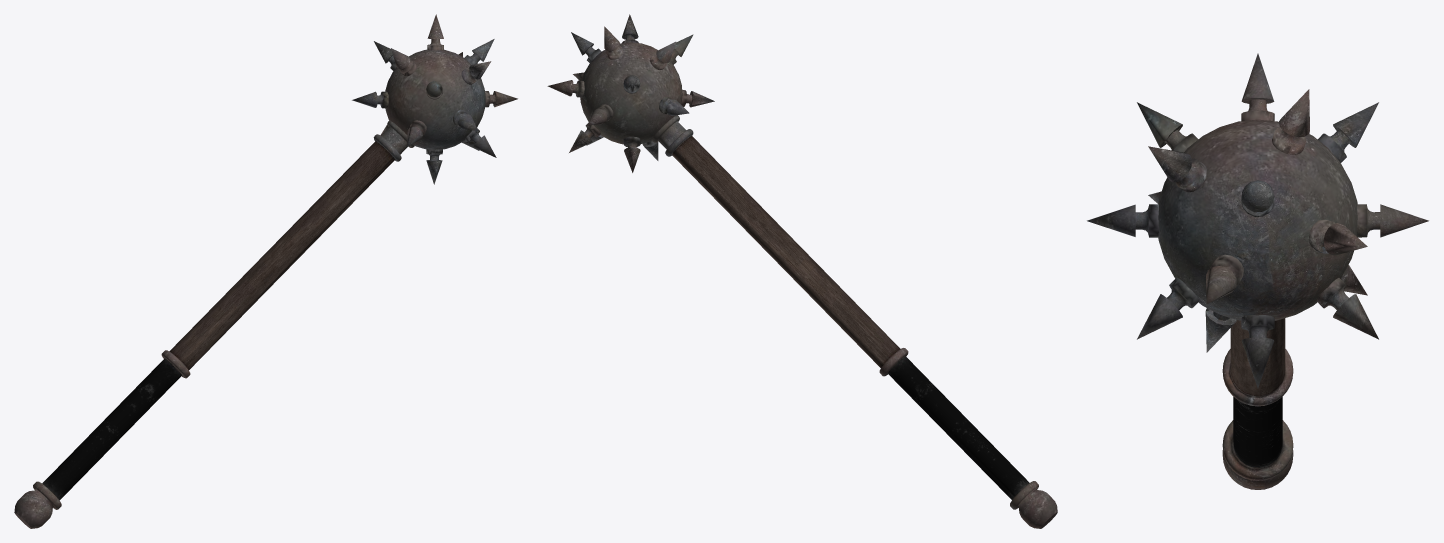
The model's file is mace.glb.
3 views of the same model, side by side, from view 1: azimuth 30°, elevation 25°; view 2: azimuth 150°, elevation 25°; view 3: azimuth 270°, elevation 25° (orthographic). The views are drawn at different scales.
Parts seen in each view (by area): view 1: weapon; view 2: weapon; view 3: weapon.
Part boxes in pixels (box(x1,y1,x2,y2)): weapon: box(14, 14, 517, 528); weapon: box(547, 14, 1057, 528); weapon: box(1087, 53, 1428, 489).
Size of the model in its own units: 0.8907 by 0.6999 by 0.2708.
Materials: 1 (1 with a texture image).
